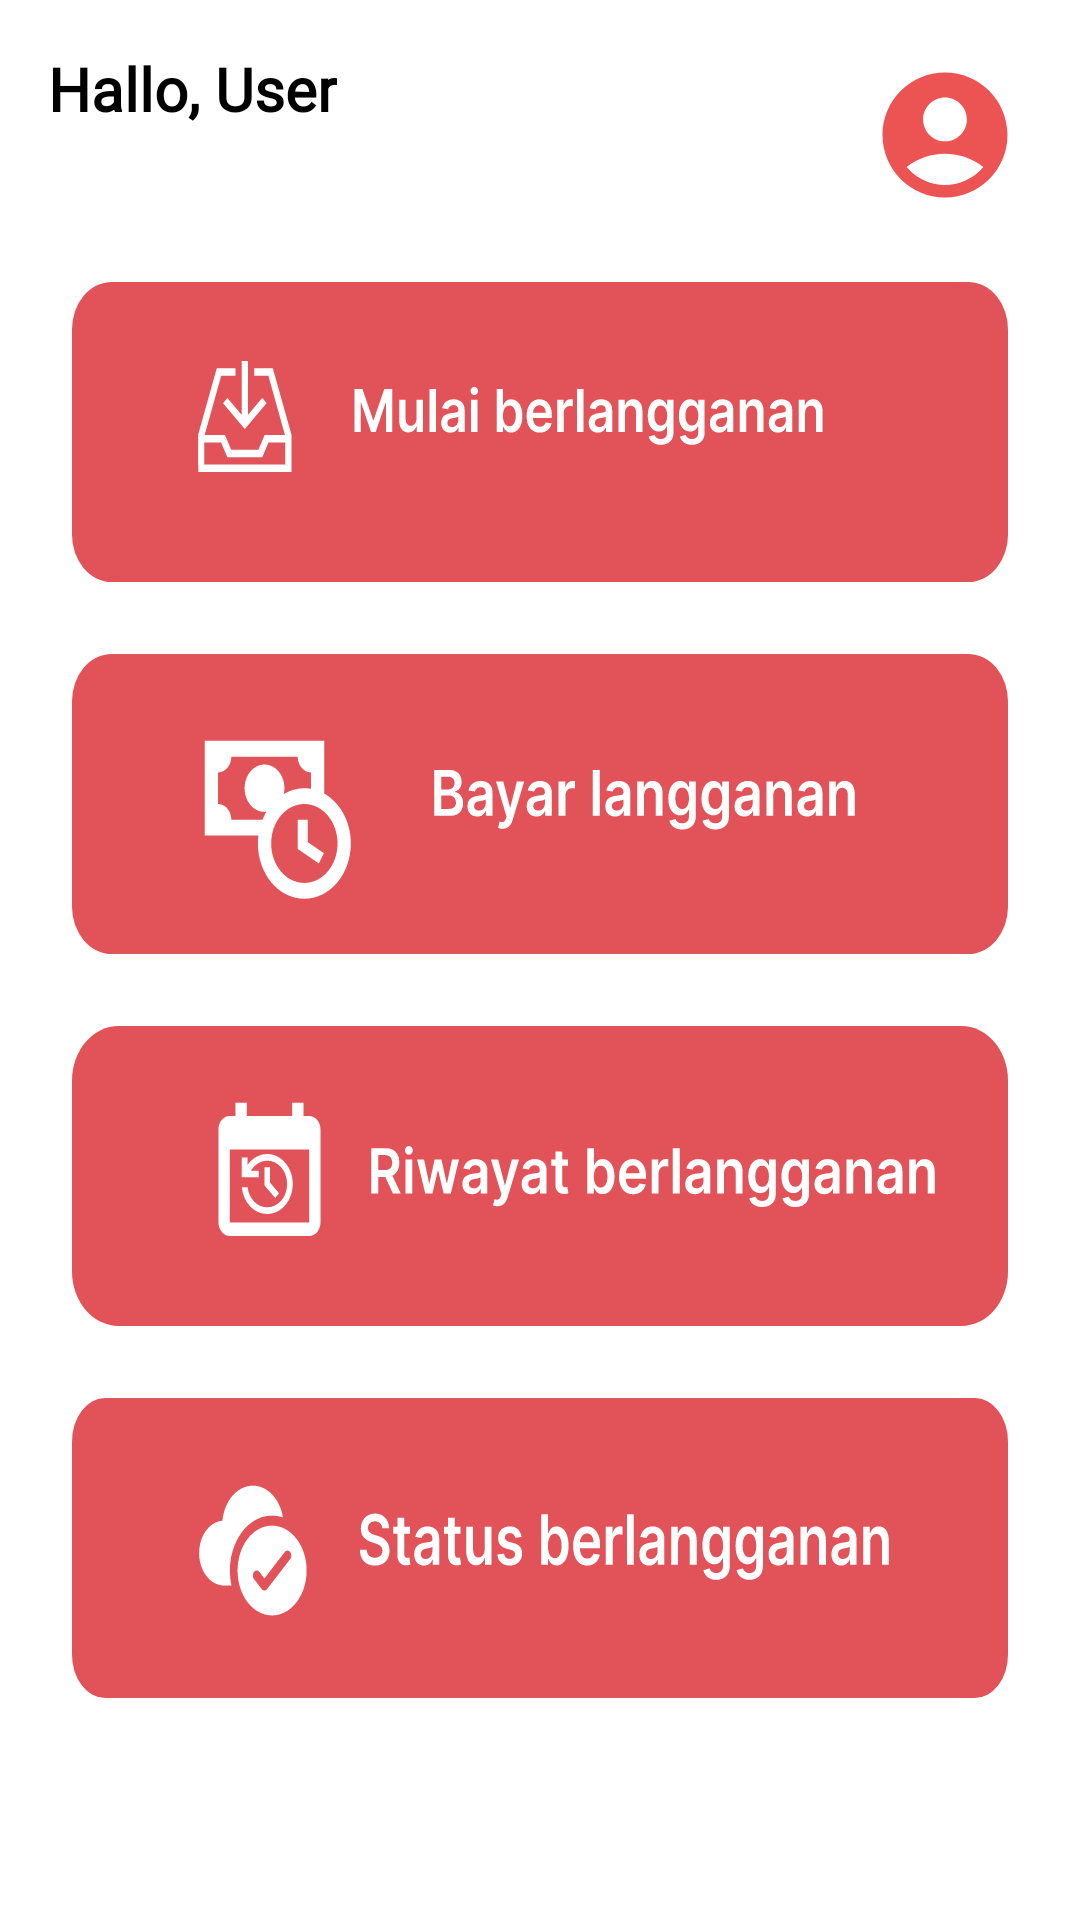

Where to tap for icons on this 1080*1920 app screen, as [x,y]:
account circle: [945,135]
